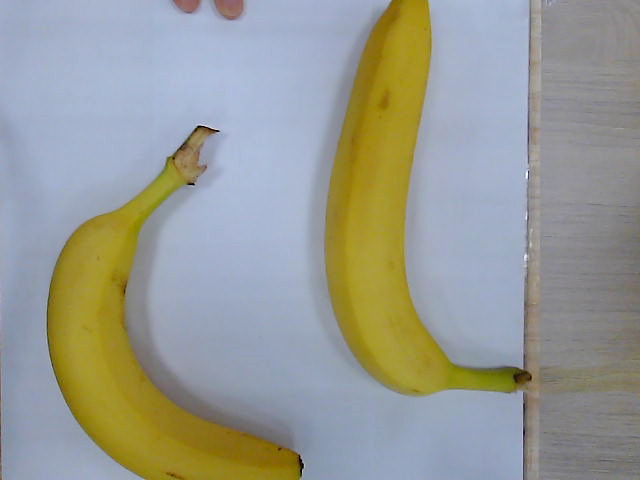fresh_banana: (47, 125, 302, 480), (327, 1, 533, 398)
